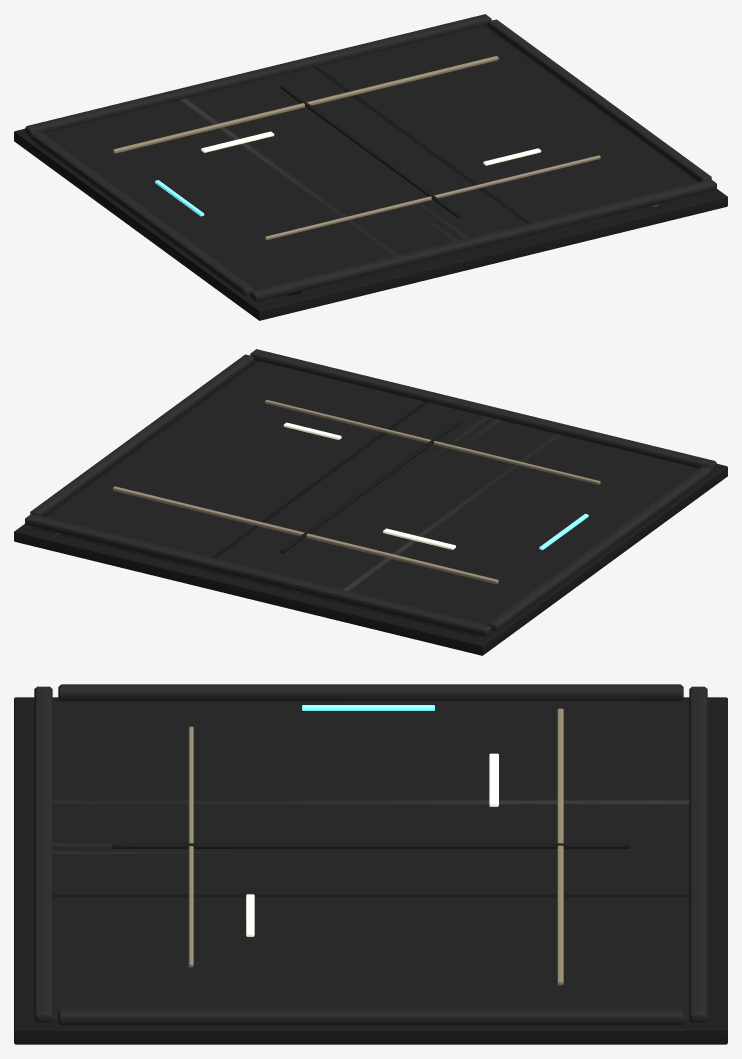
Rendered from hp_room_wall_panel_museum.glb.
3 views of the same model, one above another, from view 1: azimuth 30°, elevation 25°; view 2: azimuth 150°, elevation 25°; view 3: azimuth 270°, elevation 25° (orthographic). The views are drawn at different scales.
Visible parts, largest first — view 1: museum_wall_stone_main_slab, museum_wall_black_recess_back, museum_wall_warm_label_slot_left; view 2: museum_wall_stone_main_slab, museum_wall_black_recess_back, museum_wall_warm_label_slot_left; view 3: museum_wall_stone_main_slab, museum_wall_black_recess_back, museum_wall_warm_label_slot_left, museum_wall_cyan_service_tick_left.
Part boxes in pixels (left/top/right/bottom): museum_wall_stone_main_slab: left=42, top=26, right=708, bottom=301; museum_wall_black_recess_back: left=14, top=14, right=727, bottom=320; museum_wall_warm_label_slot_left: left=201, top=131, right=541, bottom=165; museum_wall_stone_main_slab: left=33, top=361, right=699, bottom=636; museum_wall_black_recess_back: left=14, top=349, right=727, bottom=655; museum_wall_warm_label_slot_left: left=283, top=422, right=455, bottom=549; museum_wall_stone_main_slab: left=52, top=701, right=689, bottom=1021; museum_wall_black_recess_back: left=14, top=684, right=727, bottom=1044; museum_wall_warm_label_slot_left: left=246, top=753, right=498, bottom=936; museum_wall_cyan_service_tick_left: left=302, top=705, right=434, bottom=710.
Size of the model in its own units: 3.2 by 0.163 by 2.9.
Materials: 4 (4 with a texture image).
